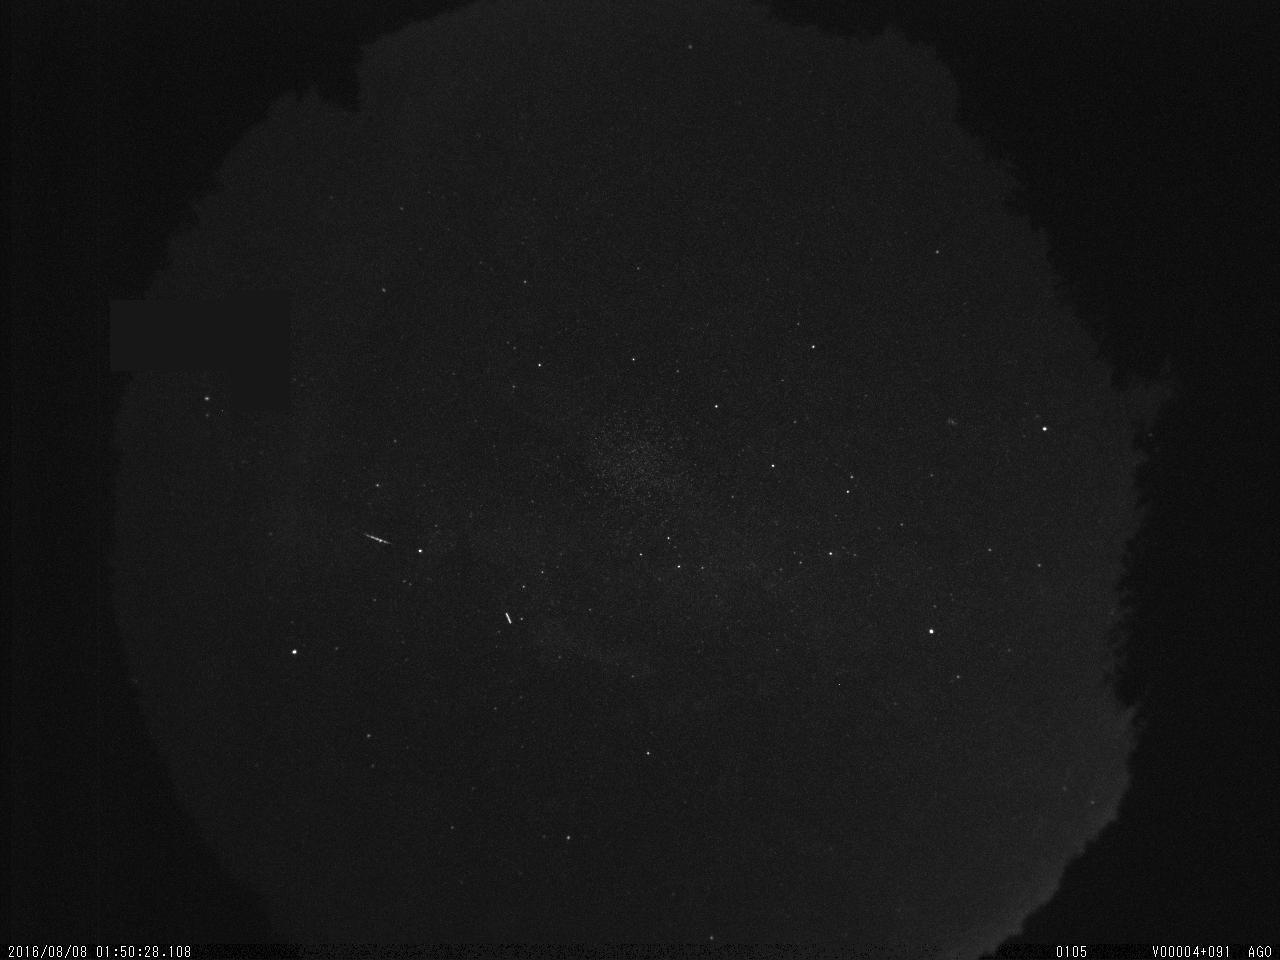meteor: (354, 521, 402, 555)
satelite: (498, 606, 515, 630)
